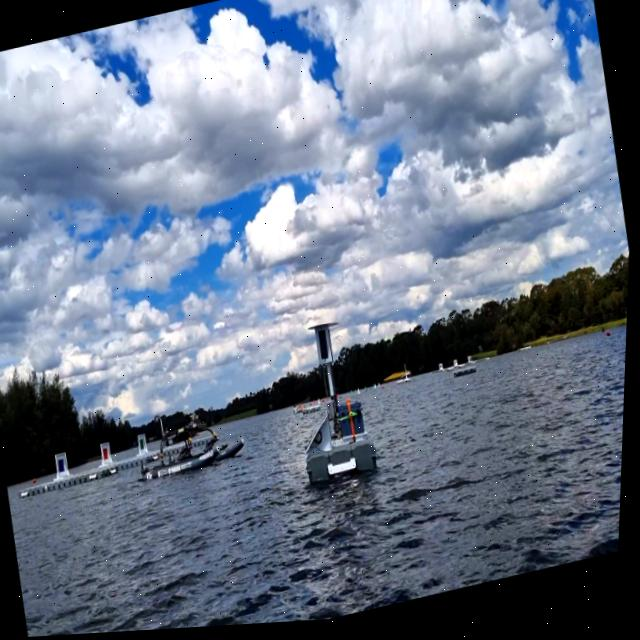led: (317, 331, 335, 367)
